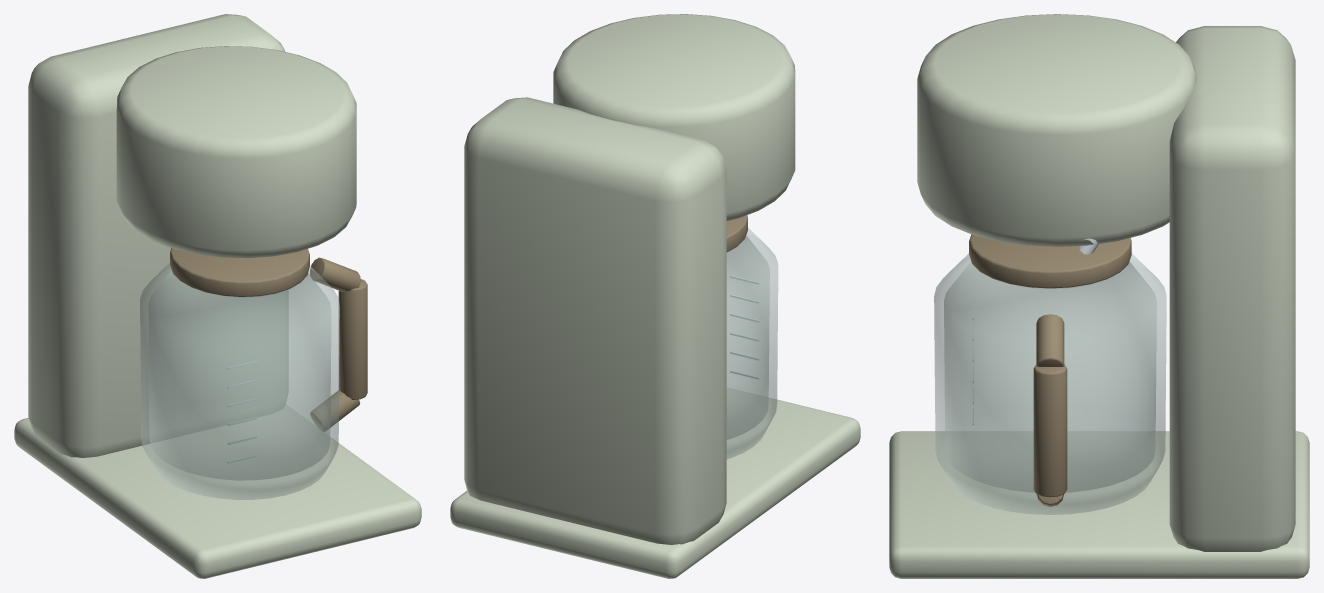
File: filter-coffee-maker.glb
3 renders of one model, left to right at view 1: azimuth 30°, elevation 25°; view 2: azimuth 150°, elevation 25°; view 3: azimuth 270°, elevation 25°, orthographic. The views are drawn at different scales.
Visible parts, largest first — view 1: catalog_surface_RealismUV, catalog_surface_UVMap; view 2: catalog_surface_RealismUV, catalog_surface_UVMap; view 3: catalog_surface_RealismUV, catalog_surface_UVMap.
Part boxes in pixels (x1,y1,x2,y2): catalog_surface_RealismUV: (14,14,421,578); catalog_surface_UVMap: (140,248,367,499); catalog_surface_RealismUV: (450,14,860,578); catalog_surface_UVMap: (726,215,778,459); catalog_surface_RealismUV: (889,14,1309,578); catalog_surface_UVMap: (934,234,1166,514).
Size of the model in its own units: 0.22 by 0.36 by 0.3.
